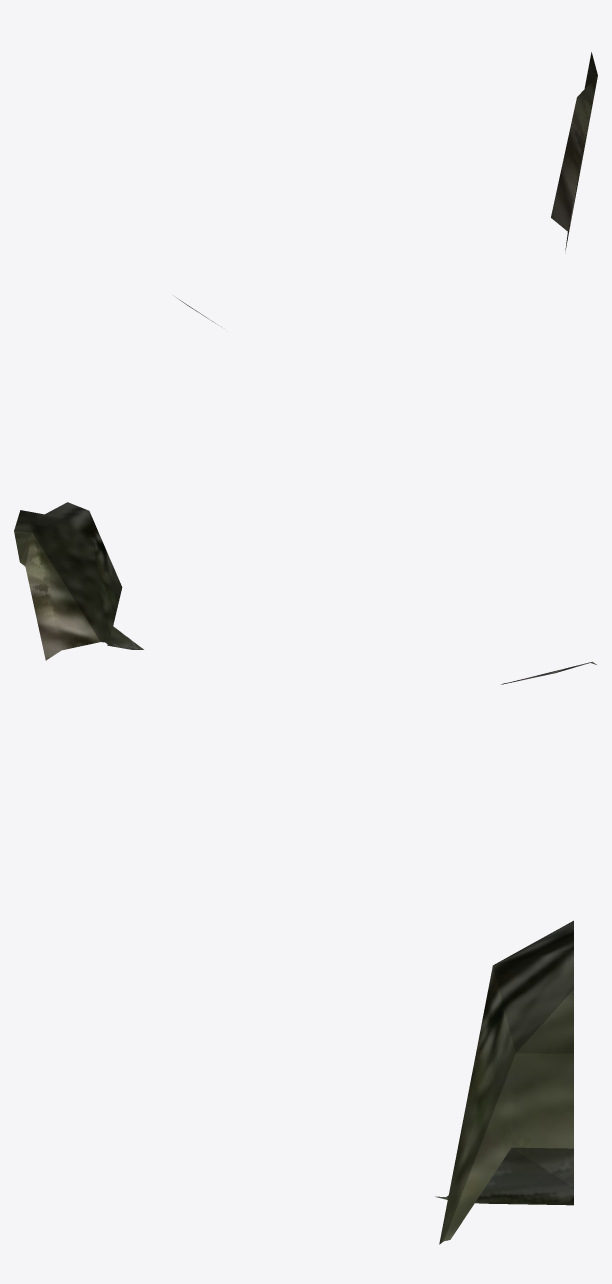
3 renders of one model, top to bottom at view 1: azimuth 30°, elevation 25°; view 2: azimuth 150°, elevation 25°; view 3: azimuth 270°, elevation 25°, orthographic. The views are drawn at different scales.
Bounding box in the file's own units: 1.66 × 0.5782 × 0.8561.
1 material, 1 textured.
